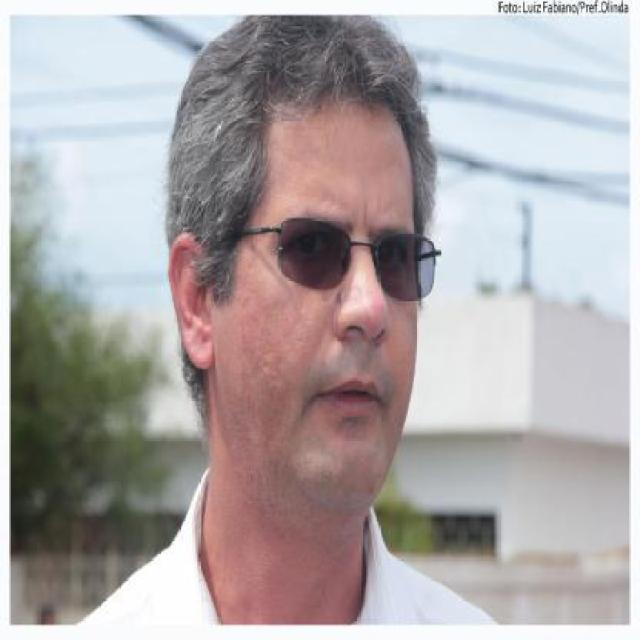face_nomask: (256, 206, 427, 437)
glasses: (195, 213, 438, 295)
head_nohelmet: (178, 15, 434, 167)
